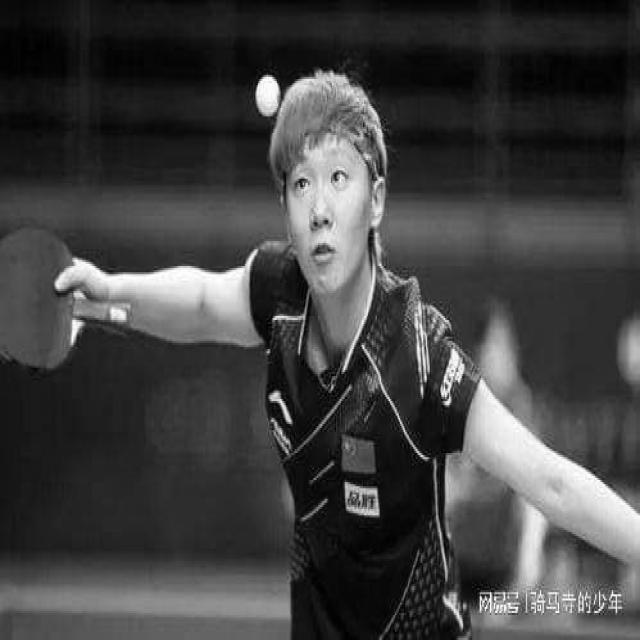ping-pong-ball: (250, 68, 281, 118)
